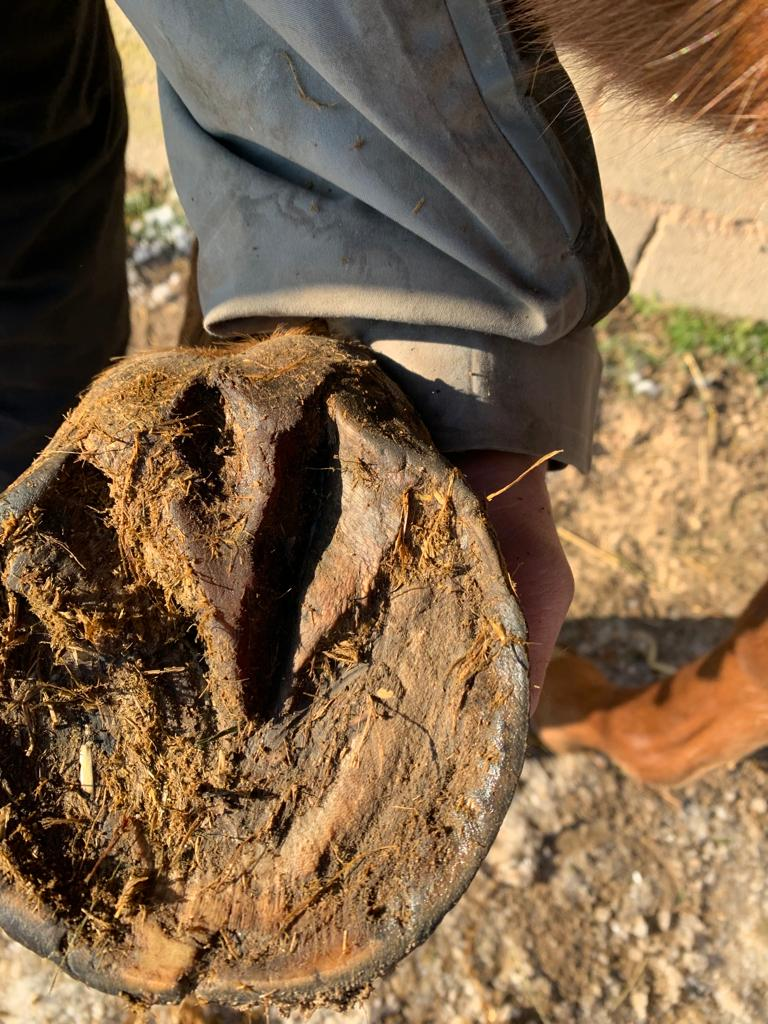horsesole: (1, 383, 529, 1006)
